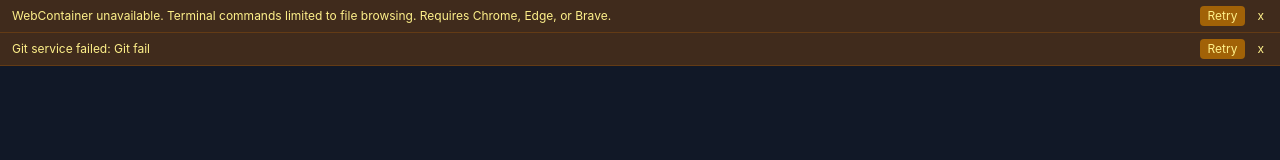
Test: ServiceBanner - dismiss › should only dismiss the clicked banner when multiple banners are shown
This screenshot has width=1280, height=160.
// Dismiss the first banner (webcontainer comes first in the list)
Step 1. Click the 1st button "x" → (1261, 16), box top-left (1253, 8), bottom-right (1268, 24)
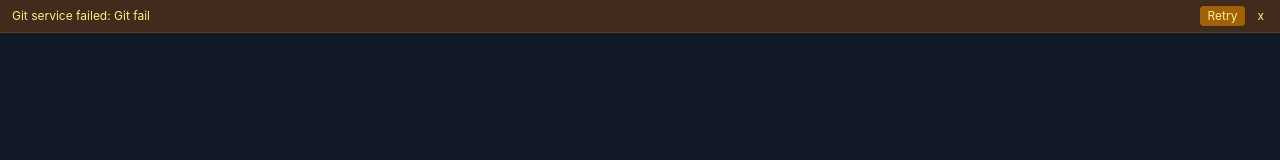
Check: the text "Git service failed: Git fail" is shown, box top-left (12, 8), bottom-right (150, 24)
Check: the text "WebContainer unavailable" is gone
